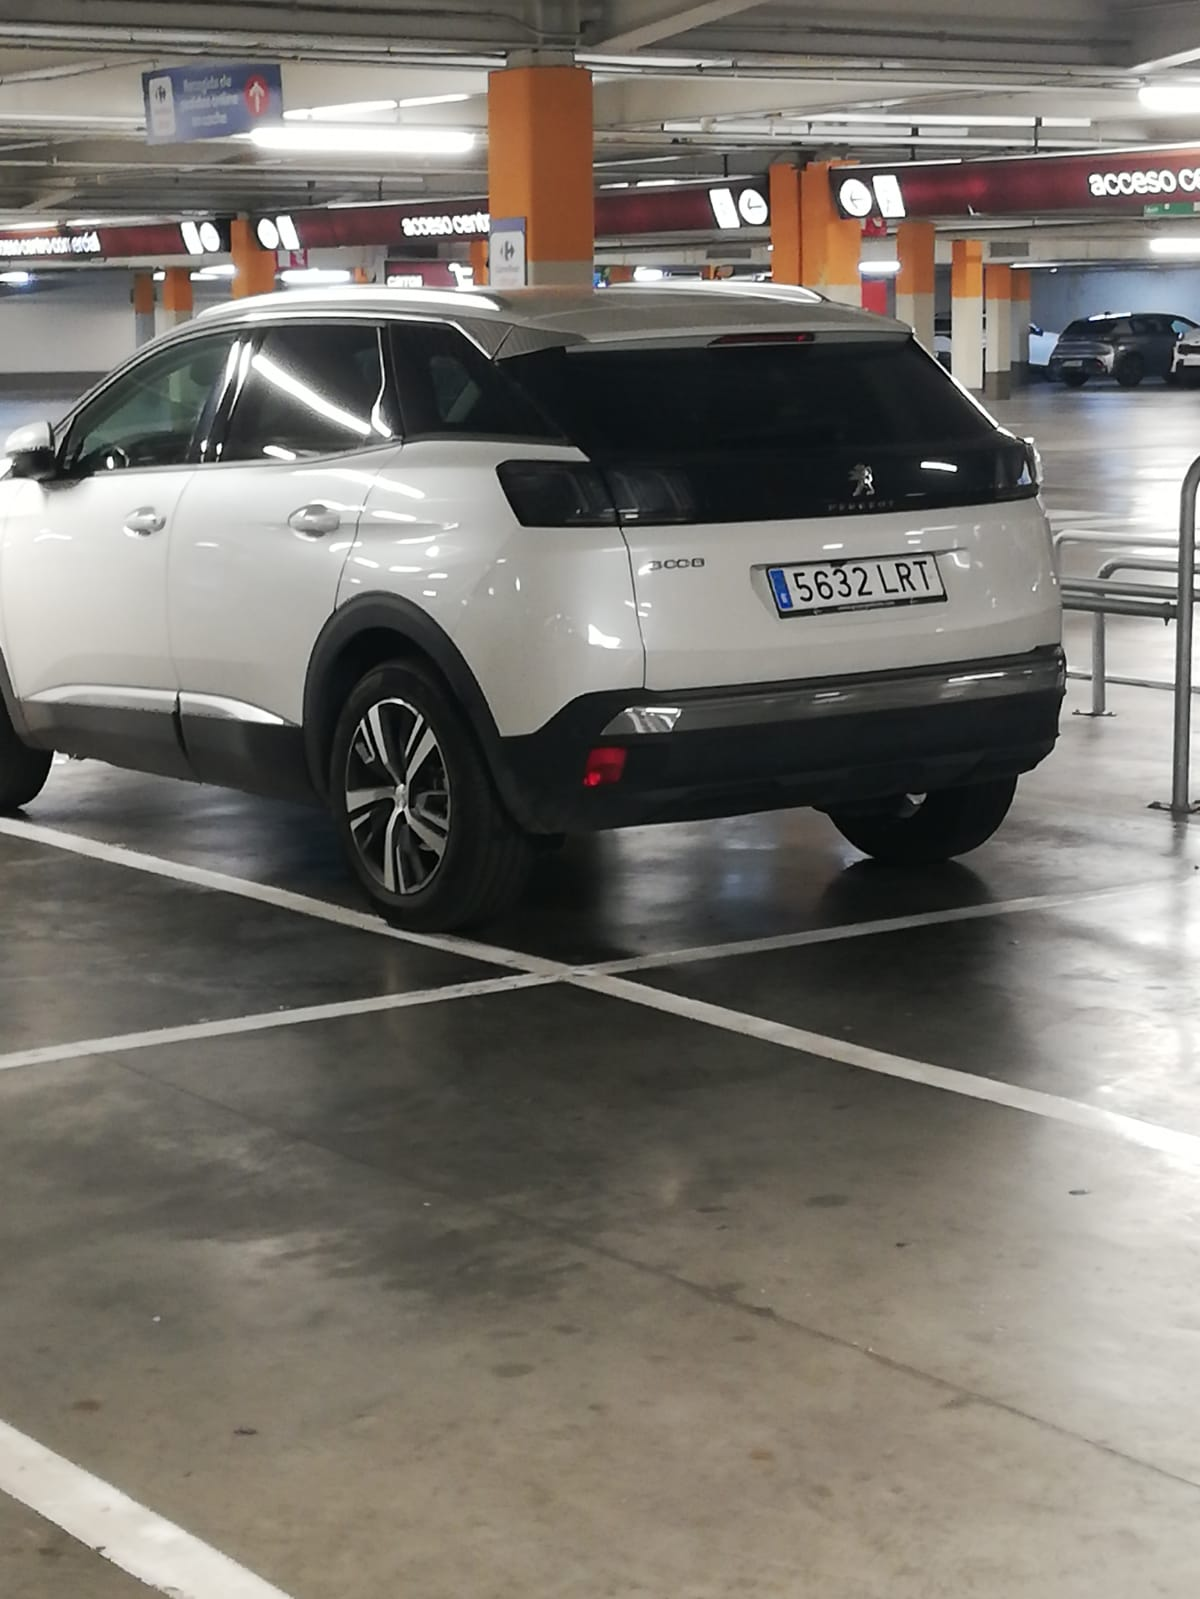Car: (0, 289, 1075, 879)
Plate: (763, 574, 937, 613)
